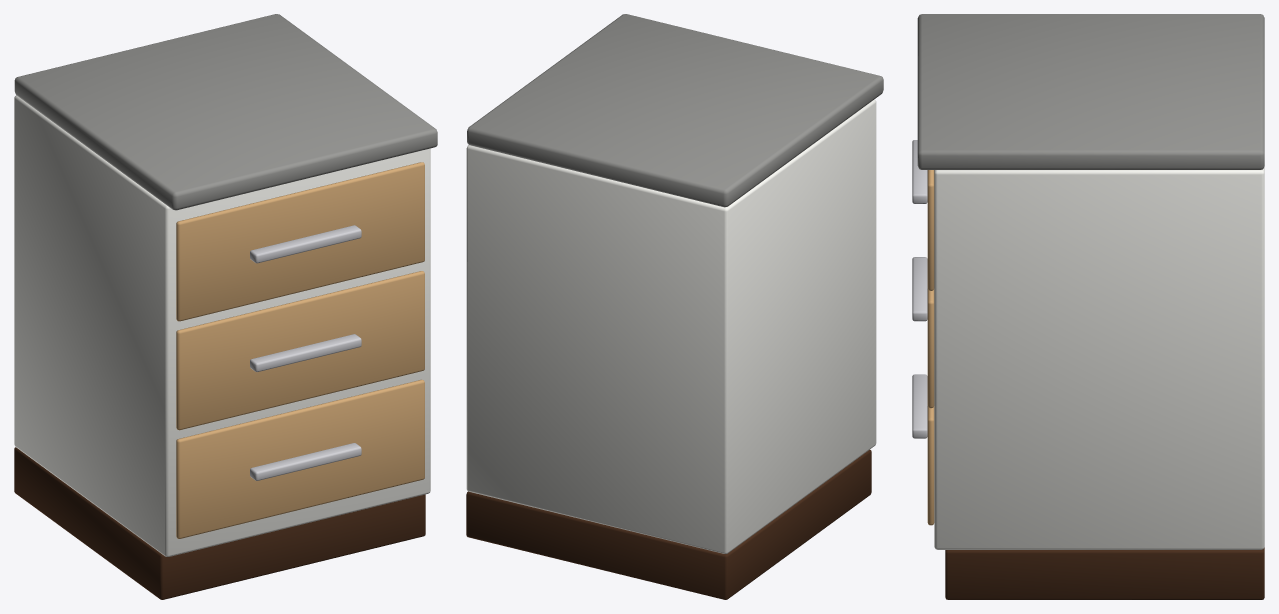
Rendered from Kitchen_Base_Drawers_60.glb.
The picture shows the model from 3 angles, left to right: view 1: azimuth 30°, elevation 25°; view 2: azimuth 150°, elevation 25°; view 3: azimuth 270°, elevation 25°; orthographic projection. The views are drawn at different scales.
Parts seen in each view (by area): view 1: Kitchen_Base_Drawers_60; view 2: Kitchen_Base_Drawers_60; view 3: Kitchen_Base_Drawers_60.
Part boxes in pixels (left/top/right/bottom): Kitchen_Base_Drawers_60: left=14, top=14, right=437, bottom=599; Kitchen_Base_Drawers_60: left=466, top=14, right=883, bottom=599; Kitchen_Base_Drawers_60: left=912, top=14, right=1264, bottom=599.
Bounding box in the file's own units: 0.6 × 0.9 × 0.64.
